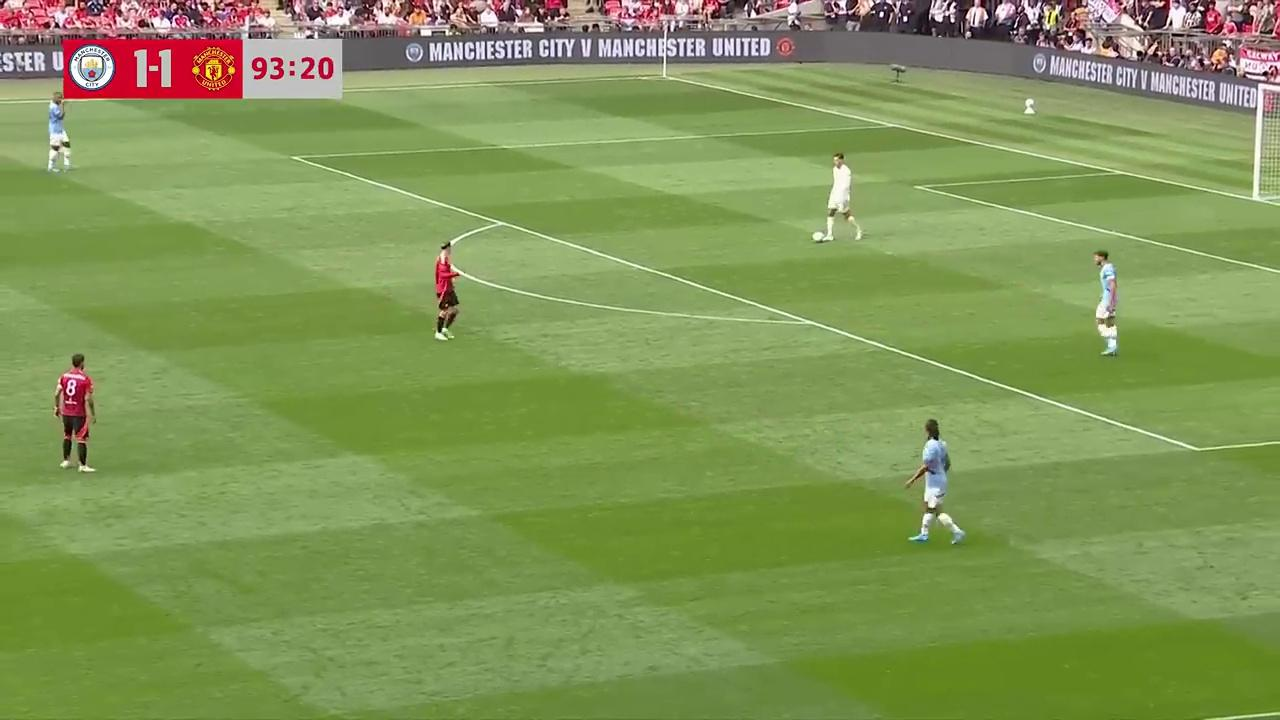ball: (811, 228, 825, 243)
player: (903, 419, 966, 545), (54, 353, 96, 473), (818, 152, 863, 243), (1092, 251, 1122, 356), (433, 246, 460, 340), (46, 94, 71, 173)
